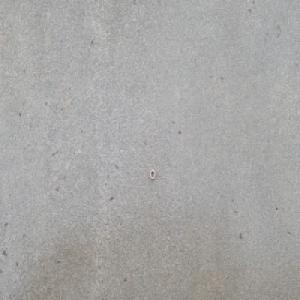Nut: (149, 169, 156, 180)
